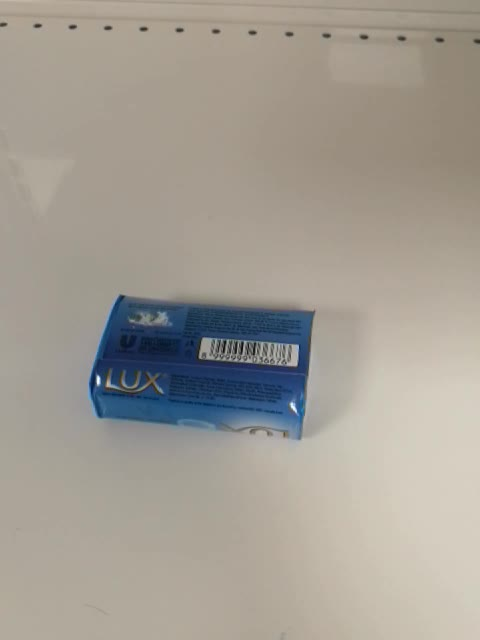soap: (88, 294, 315, 444)
